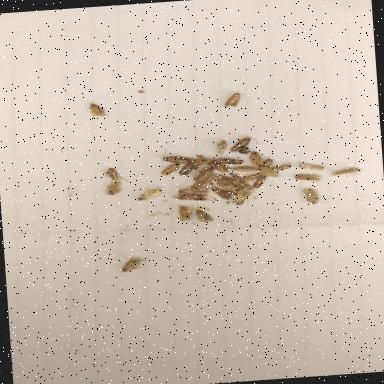pbw: (210, 184, 242, 208), (161, 146, 196, 166), (169, 192, 214, 206), (228, 135, 264, 152), (299, 185, 326, 205), (271, 156, 302, 172), (187, 172, 218, 188), (104, 166, 130, 184), (129, 188, 163, 201), (207, 160, 234, 175), (189, 208, 214, 224), (231, 190, 256, 206), (210, 156, 246, 167), (216, 178, 242, 193), (119, 258, 146, 272), (250, 174, 270, 192), (294, 172, 324, 184), (191, 167, 215, 182), (223, 92, 245, 108), (88, 101, 107, 119), (105, 180, 125, 196), (330, 168, 361, 178), (258, 164, 280, 178), (238, 172, 262, 184), (178, 186, 210, 195), (232, 164, 260, 174), (160, 163, 181, 176), (213, 140, 228, 158), (230, 179, 252, 191), (248, 150, 264, 166), (212, 172, 233, 184), (178, 162, 195, 176), (300, 163, 326, 172), (193, 158, 212, 170), (261, 158, 273, 168), (194, 154, 205, 164), (229, 174, 241, 182)
